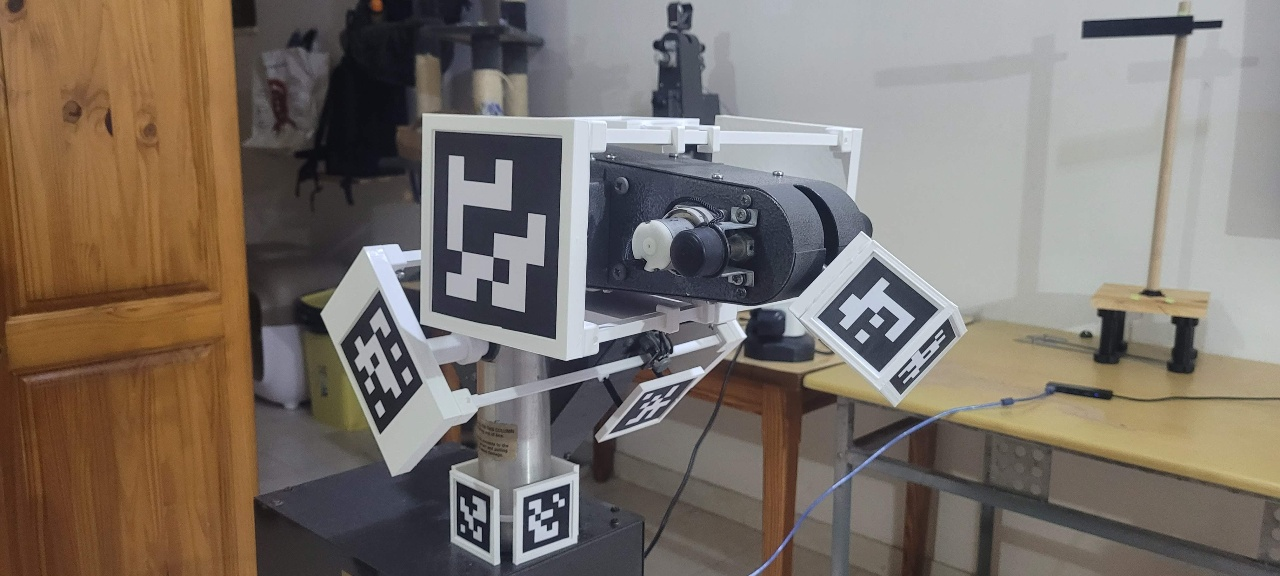Robot: (320, 114, 969, 566)
